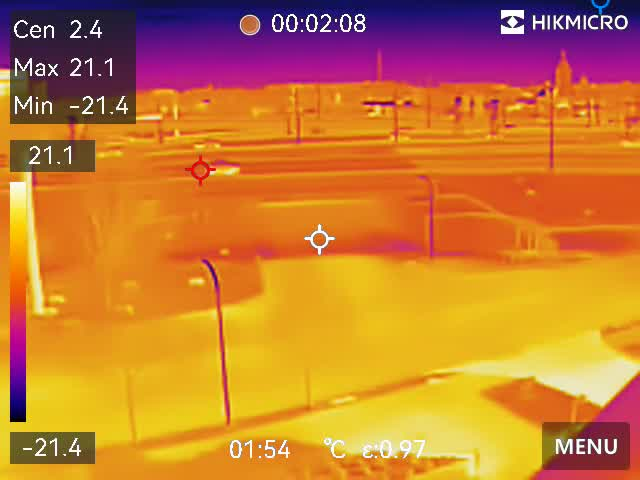vehicle: (197, 159, 243, 176), (188, 138, 221, 151), (387, 128, 413, 143)
